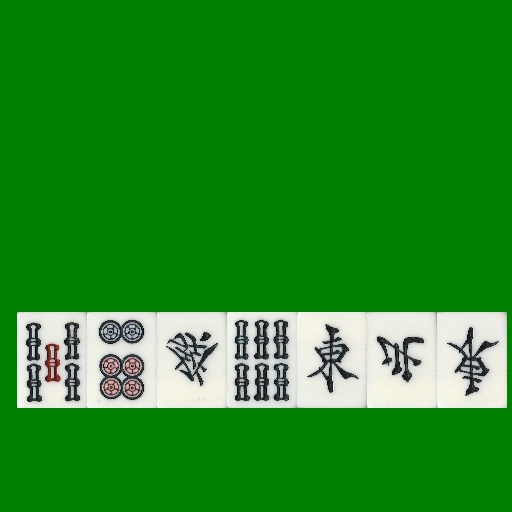5s: (17, 312, 87, 408)
6p: (87, 312, 157, 408)
6s: (227, 312, 297, 408)
east: (297, 312, 367, 408), (437, 312, 507, 408)
hatsu: (157, 312, 227, 408)
north: (367, 312, 437, 408)
